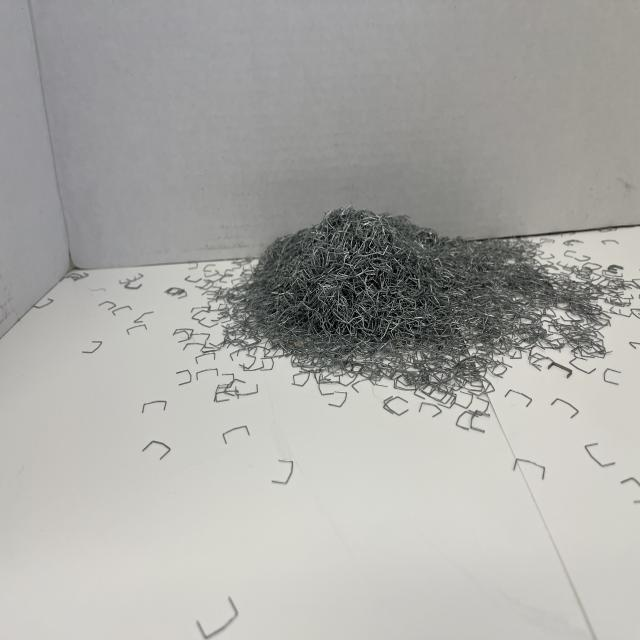staples: (218, 203, 619, 398)
